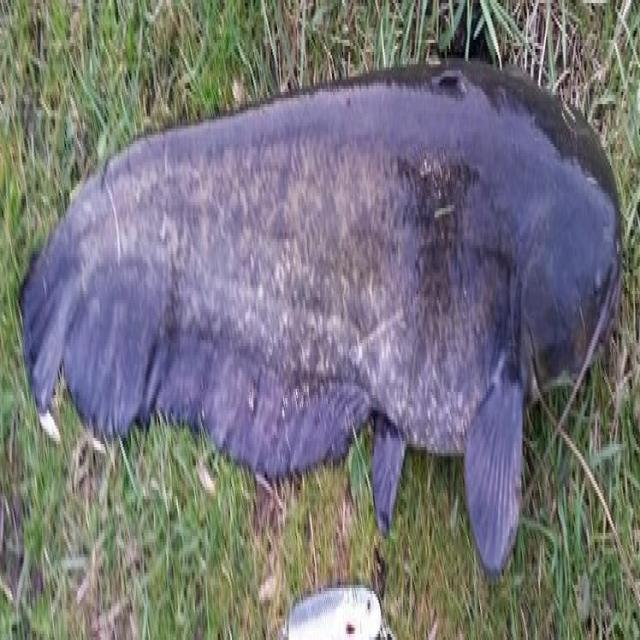Catfish: (23, 50, 630, 601)
